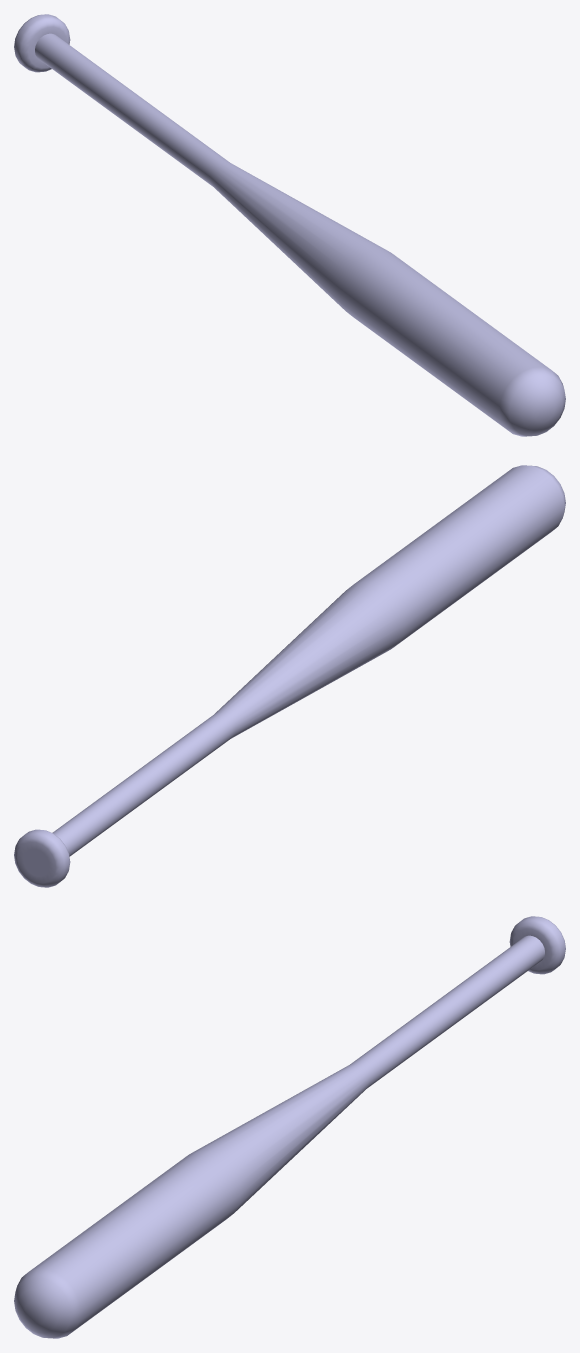
Rendered from Girl_Anim_CloseRangeAttack_ver1.2.0_BatOnly.fbx.
3 views of the same model, one above another, from view 1: azimuth 30°, elevation 25°; view 2: azimuth 150°, elevation 25°; view 3: azimuth 330°, elevation 25° (orthographic).
Parts seen in each view (by area): view 1: pCylinder1; view 2: pCylinder1; view 3: pCylinder1.
Boxes of the visible parts, x1=… form: pCylinder1: x1=14, y1=14, x2=565, y2=436; pCylinder1: x1=14, y1=465, x2=565, y2=887; pCylinder1: x1=14, y1=916, x2=565, y2=1338.
Bounding box in the file's own units: 5.04 × 5.04 × 68.14.
